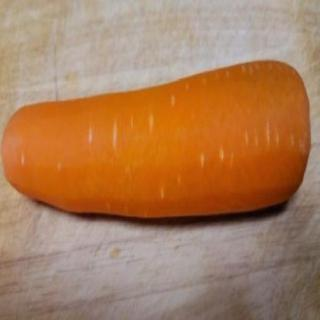carrot: (1, 53, 314, 225)
